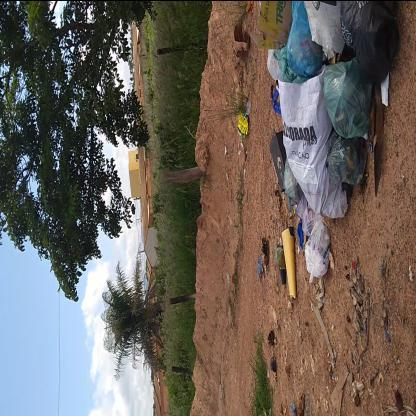lixo: (268, 0, 404, 291)
